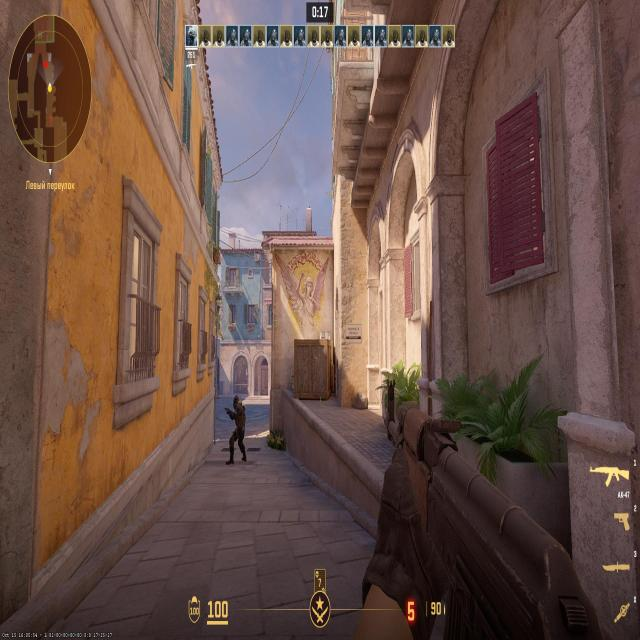CT: (232, 398, 243, 460)
CT_heat: (237, 399, 241, 412)
